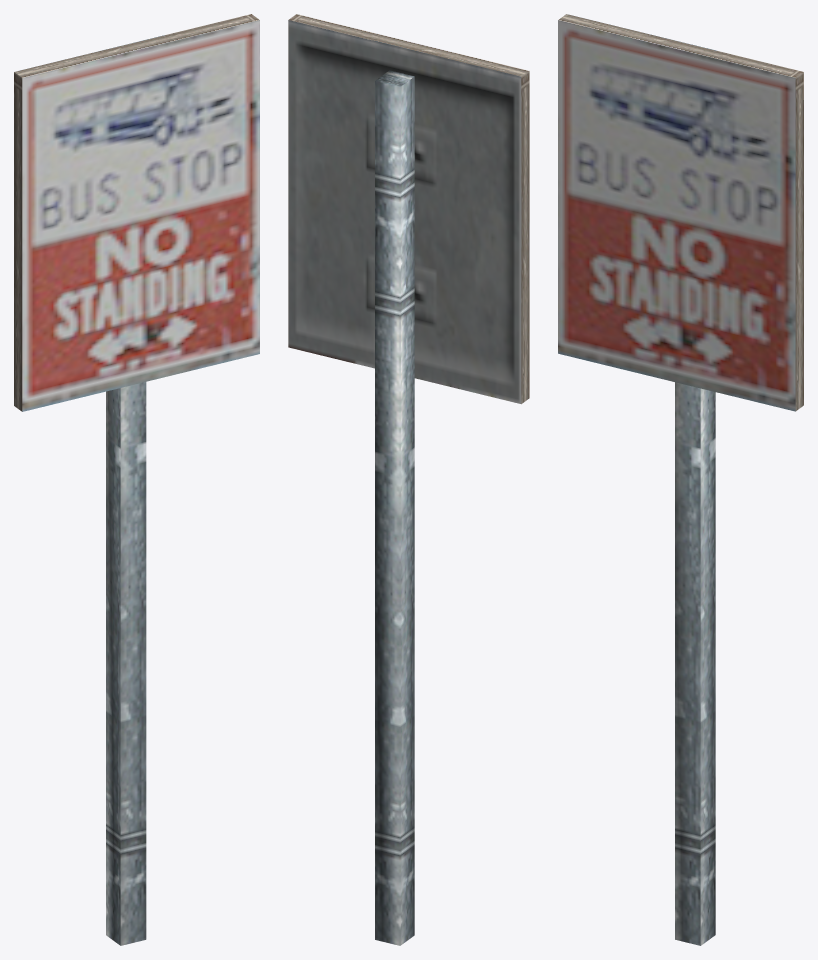
Rendered from Model_StreetSign_06.fbx.
3 views of the same model, side by side, from view 1: azimuth 30°, elevation 25°; view 2: azimuth 150°, elevation 25°; view 3: azimuth 330°, elevation 25° (orthographic).
Visible parts, largest first — view 1: StreetSign_06; view 2: StreetSign_06; view 3: StreetSign_06.
Boxes of the visible parts, x1=… form: StreetSign_06: x1=14, y1=14, x2=259, y2=945; StreetSign_06: x1=288, y1=14, x2=529, y2=945; StreetSign_06: x1=558, y1=14, x2=803, y2=945.
Bounding box in the file's own units: 59.59 × 216 × 10.5.
